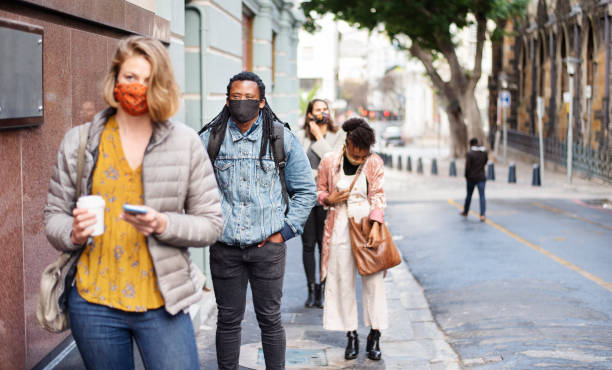with mask: (103, 37, 171, 118), (226, 70, 266, 120), (342, 126, 377, 169), (309, 92, 332, 127)
